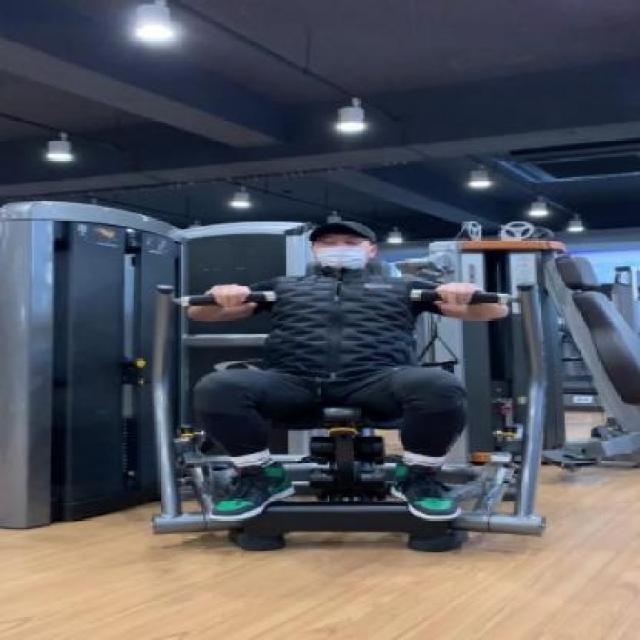Chest Press machine: (17, 174, 600, 583)
